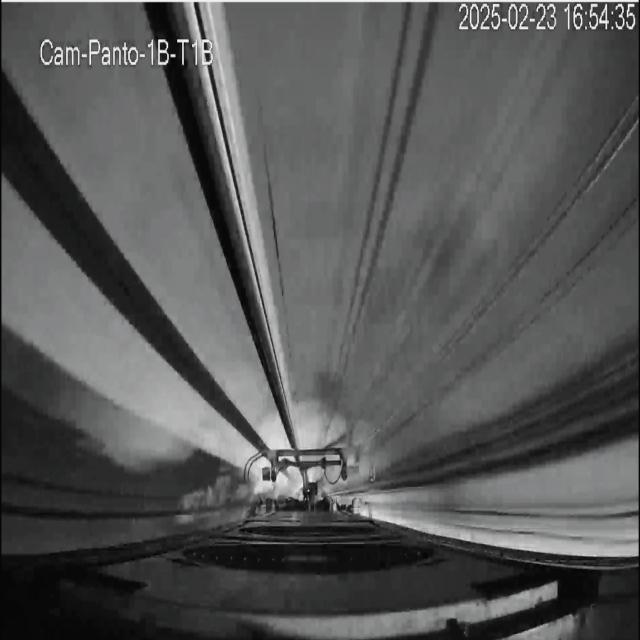Camera Stamp: (41, 34, 218, 69)
Date Stamp: (459, 3, 635, 33)
No - Spark: (248, 444, 355, 504)
